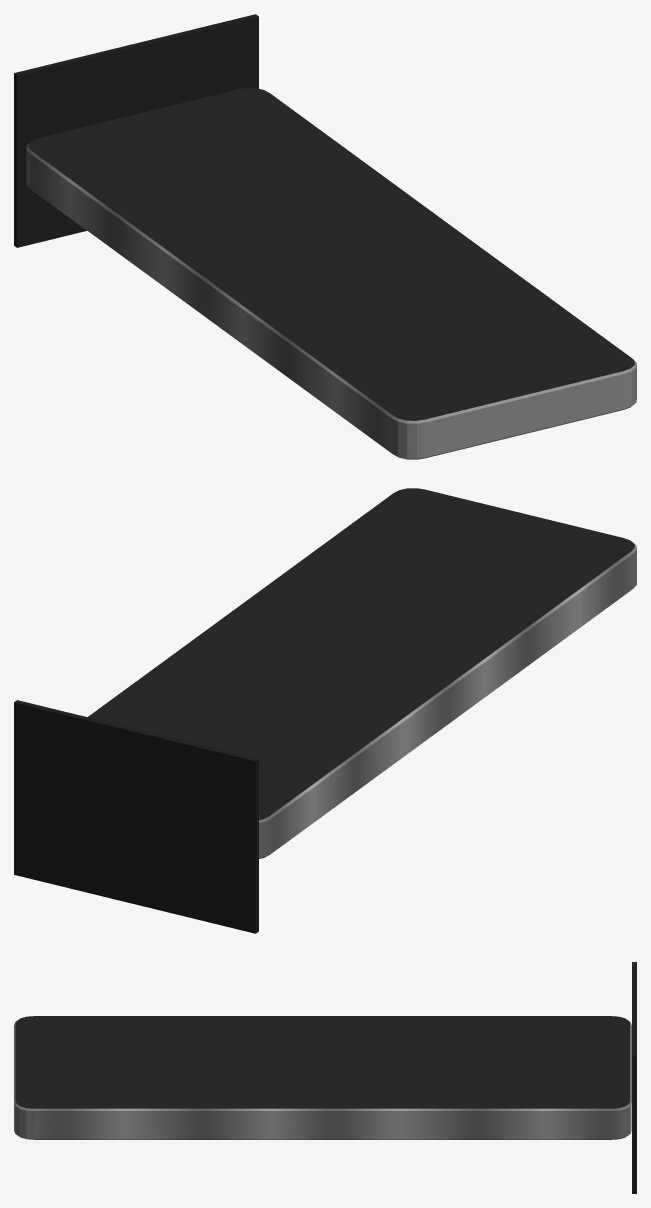
The model's file is Trụ led information.glb.
3 views of the same model, one above another, from view 1: azimuth 30°, elevation 25°; view 2: azimuth 150°, elevation 25°; view 3: azimuth 270°, elevation 25° (orthographic). The views are drawn at different scales.
Parts seen in each view (by area): view 1: Material2_2, Material2, Material2_4; view 2: Material2_2, Material2_4, Material2; view 3: Material2_2, Material2, Material2_4.
Part boxes in pixels (box(x1,y1,x2,y2)): Material2_2: box(28, 88, 634, 420); Material2: box(26, 144, 636, 459); Material2_4: box(14, 14, 258, 247); Material2_2: box(88, 488, 634, 819); Material2_4: box(14, 700, 258, 933); Material2: box(259, 544, 636, 858); Material2_2: box(15, 1016, 629, 1108); Material2: box(14, 1021, 631, 1139); Material2_4: box(632, 962, 636, 1193).
Size of the model in its own units: 25.59 by 17.44 by 71.57.
Materials: 5 (2 with a texture image).
